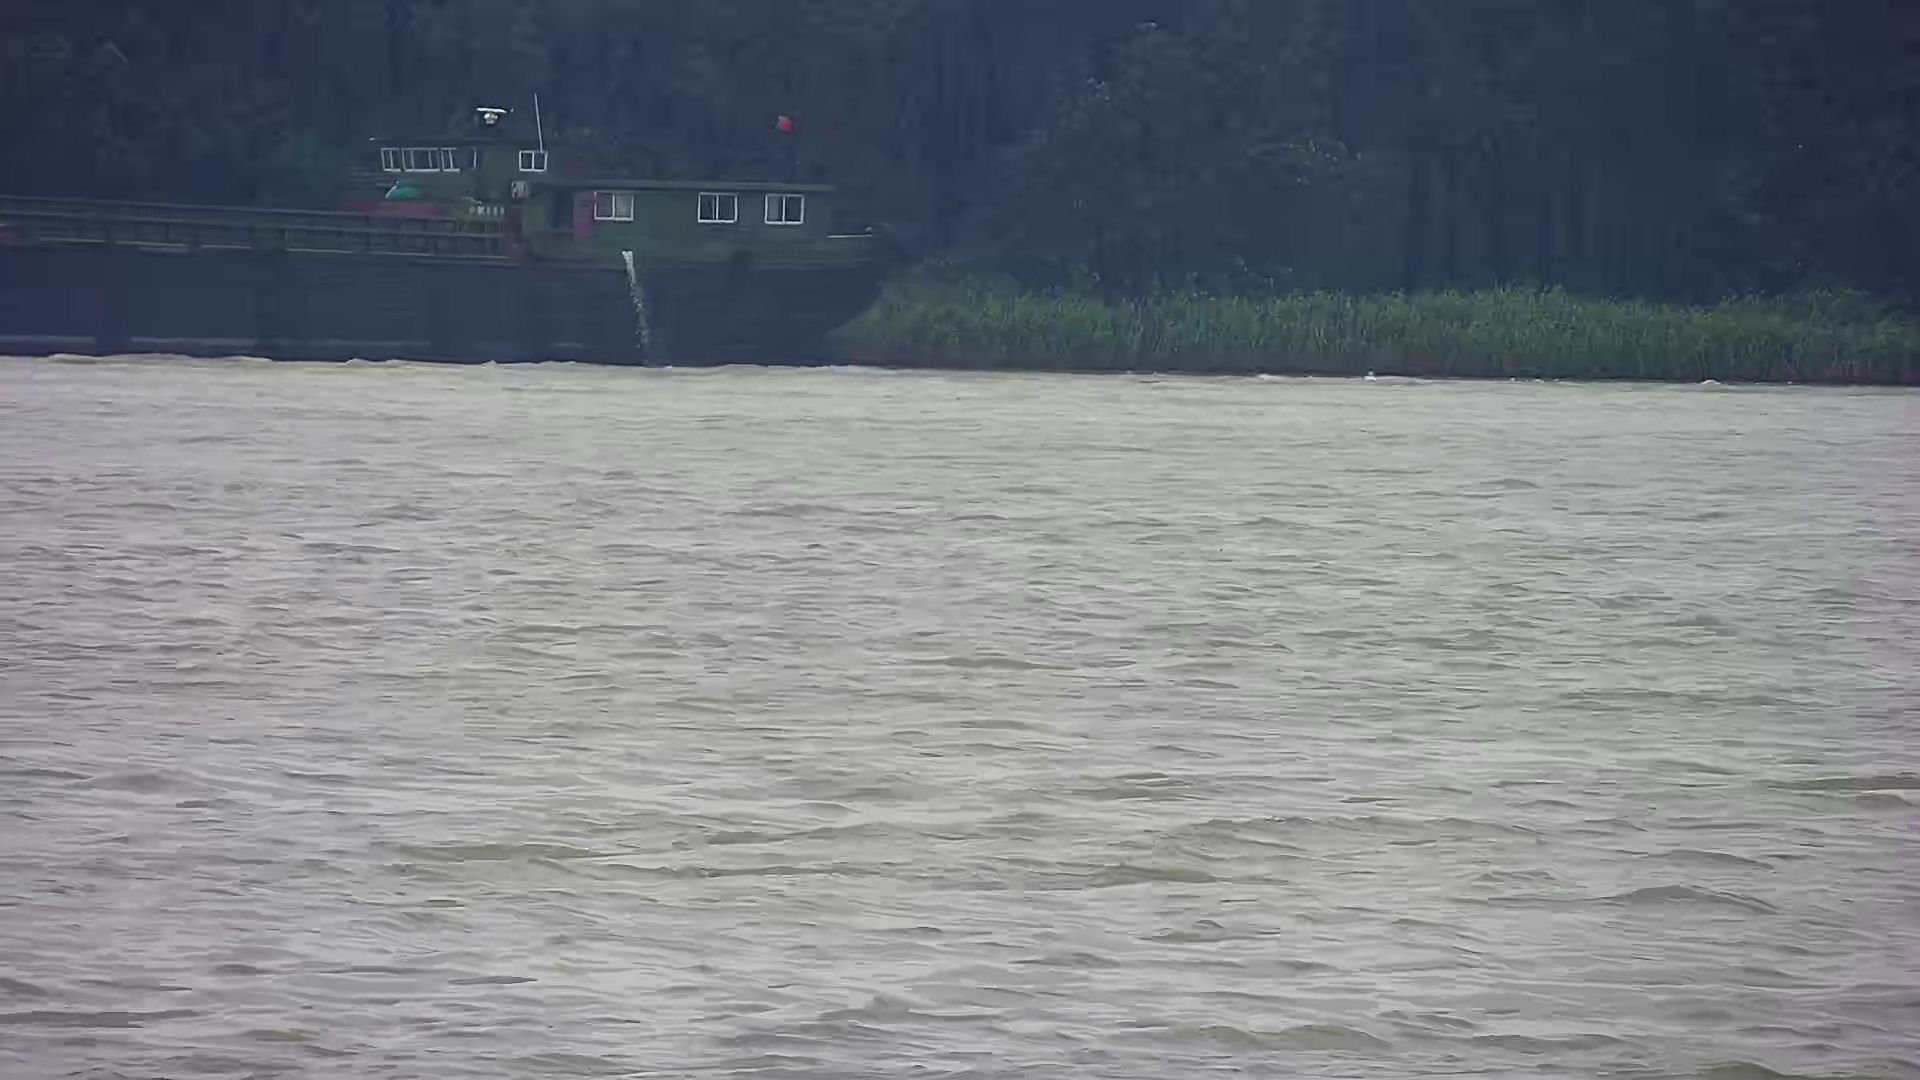ship: (5, 79, 903, 377)
